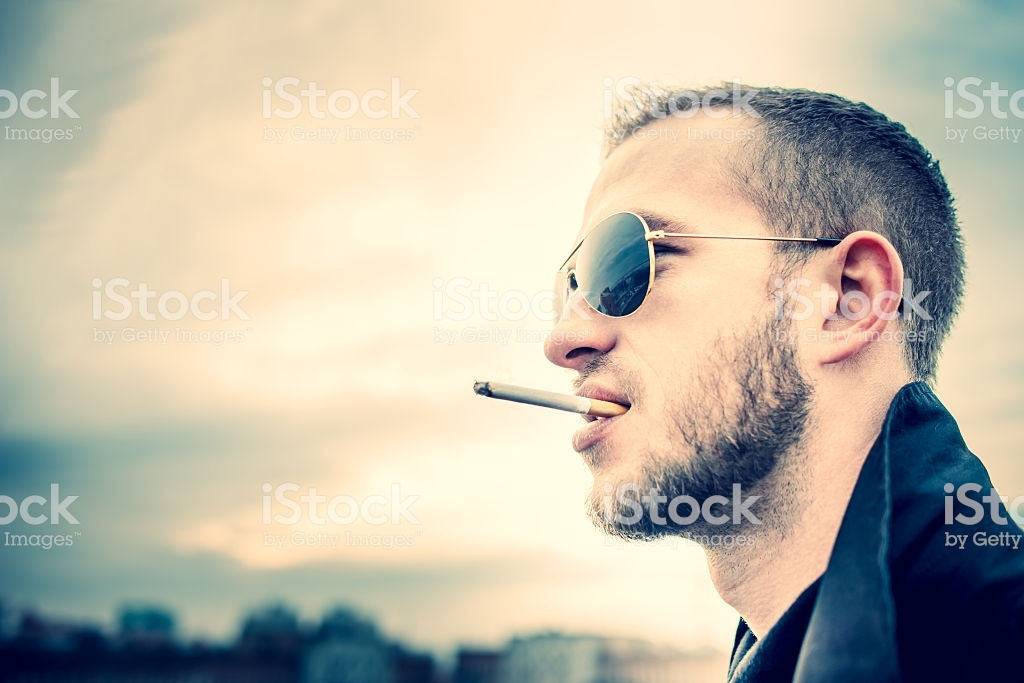sigaretta: (476, 370, 623, 427)
